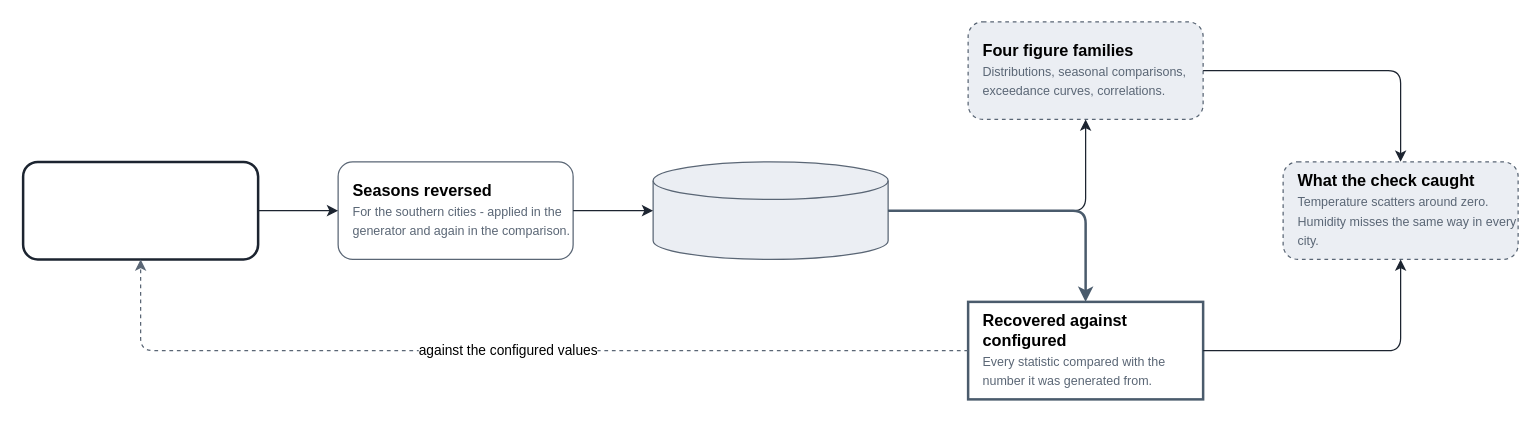
This 1540x423 diagram has some shape labels left out. The shapes that lost their labels are listed below. From the top down, each one's box as (x1, y1, x2, y2) in pixels, then its label:
(21, 160, 259, 260): Seeded generator 21,900 daily records for six cities, at a fixed seed.
(652, 161, 888, 259): Per-city summary Tracked as an artefact rather than printed and lost.
